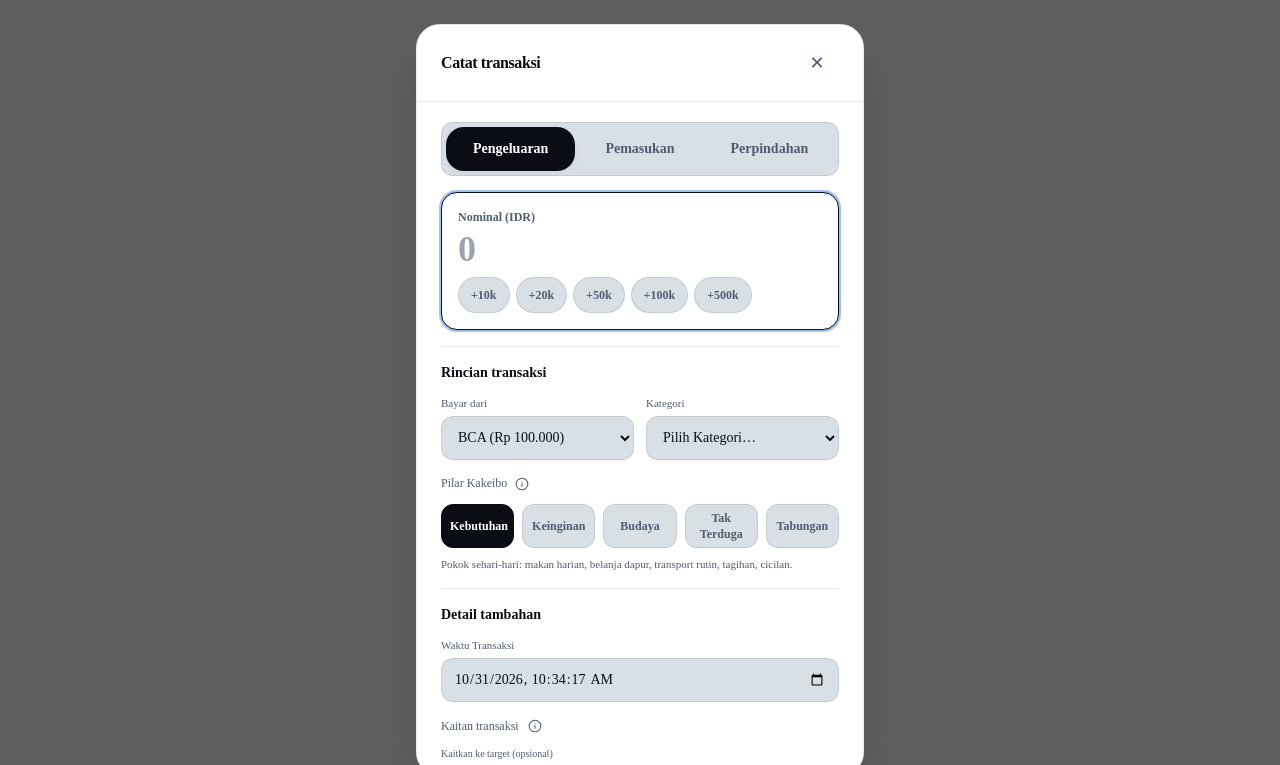
Scenario: QuickCaptureModal › follows a culture category default and offers every Kakeibo pillar
Select "Olahraga" in the dropdown labelled "Kategori" at (742, 438), box [646,416,839,460]
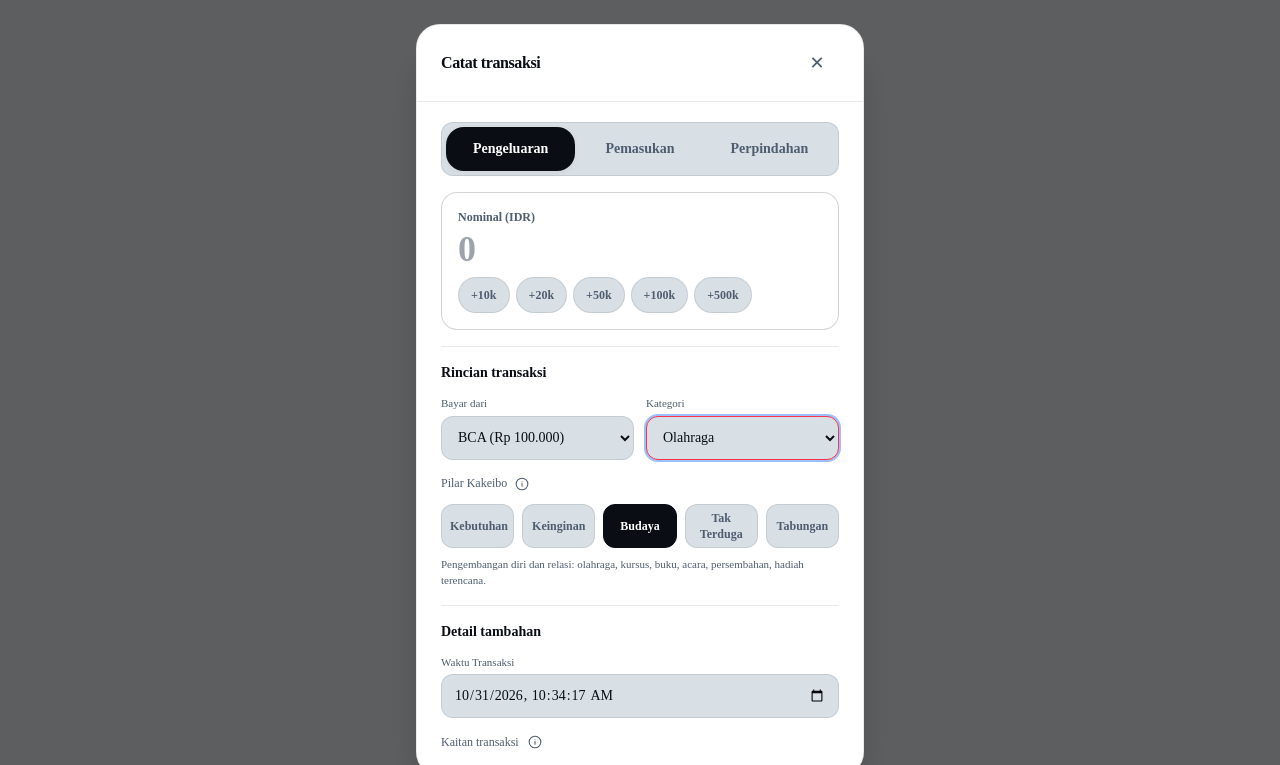
Expected: the button "Kebutuhan" is shown, [441,504,514,548]
Now the text "Pengembangan diri dan relasi" is shown, box [441,558,804,586]
